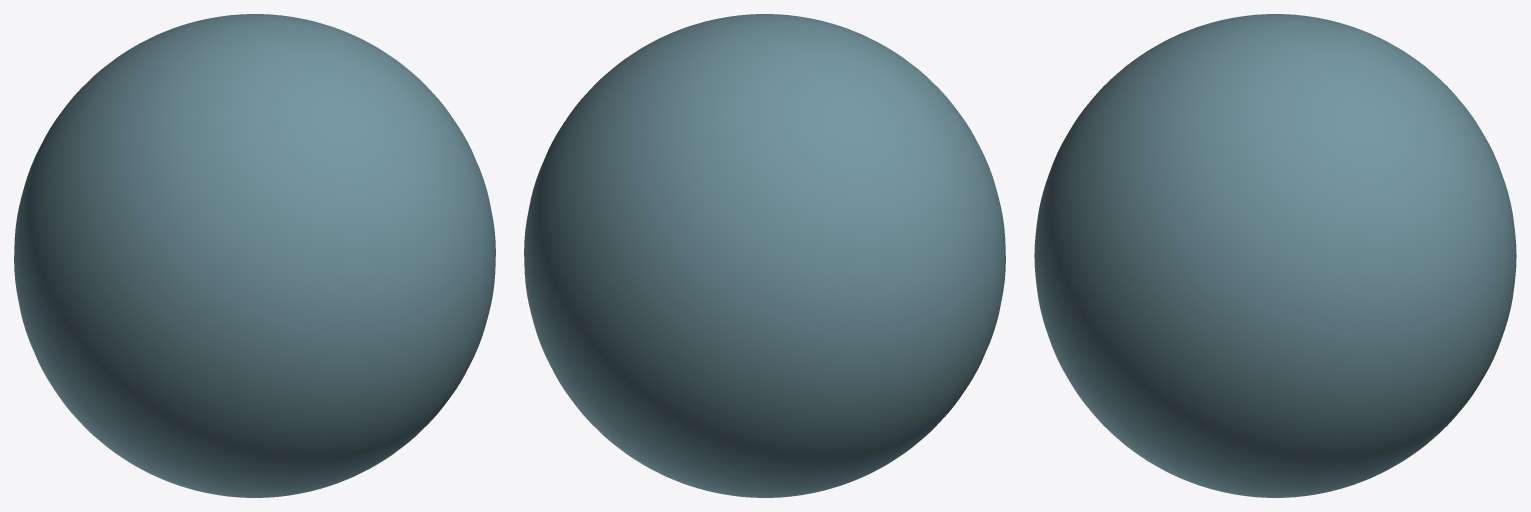
Rendered from massiveorb.fbx.
3 views of the same model, side by side, from view 1: azimuth 30°, elevation 25°; view 2: azimuth 150°, elevation 25°; view 3: azimuth 270°, elevation 25° (orthographic).
Visible parts, largest first — view 1: Sphere; view 2: Sphere; view 3: Sphere.
Boxes of the visible parts, bbox=[...] form: Sphere: bbox=[14, 14, 495, 497]; Sphere: bbox=[524, 14, 1005, 497]; Sphere: bbox=[1034, 14, 1516, 497].
Size of the model in its own units: 66.68 by 67.06 by 66.68.
